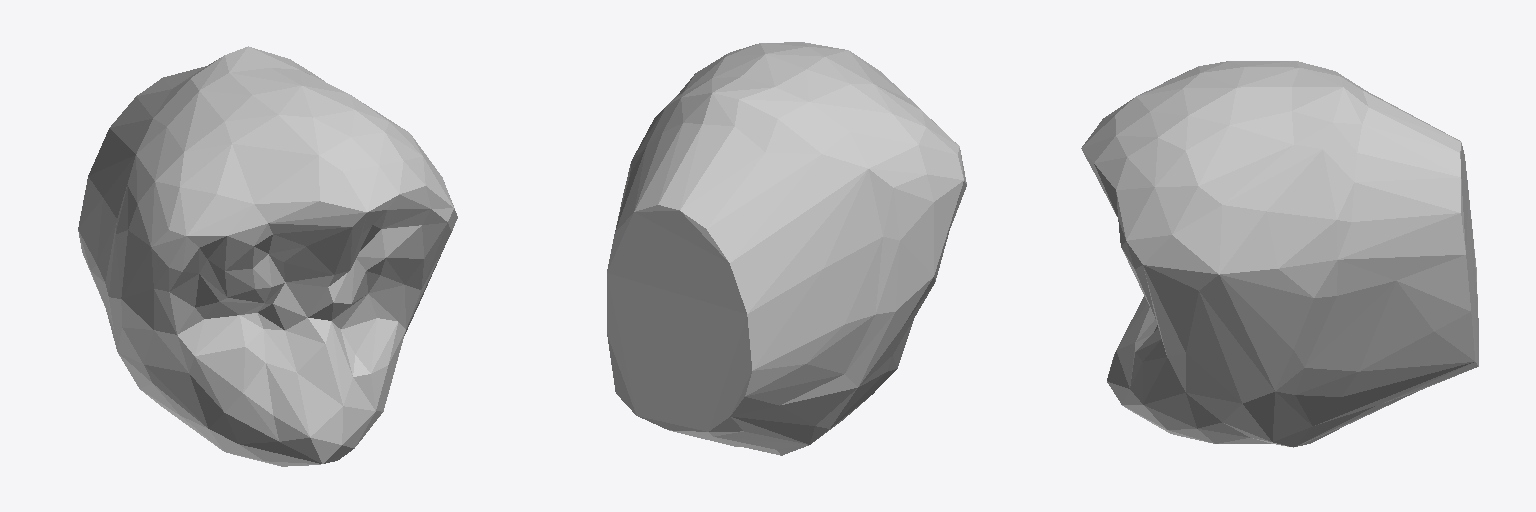
The model's file is local_t15_7780_si.OBJ.
3 views of the same model, side by side, from view 1: azimuth 30°, elevation 25°; view 2: azimuth 150°, elevation 25°; view 3: azimuth 270°, elevation 25° (orthographic).
Visible parts, largest first — view 1: Group47705; view 2: Group47705; view 3: Group47705.
Part boxes in pixels (bbox=[...]): Group47705: bbox=[78, 46, 457, 466]; Group47705: bbox=[607, 42, 966, 455]; Group47705: bbox=[1081, 61, 1478, 447].
Bounding box in the file's own units: 7.71 × 8.84 × 8.83.